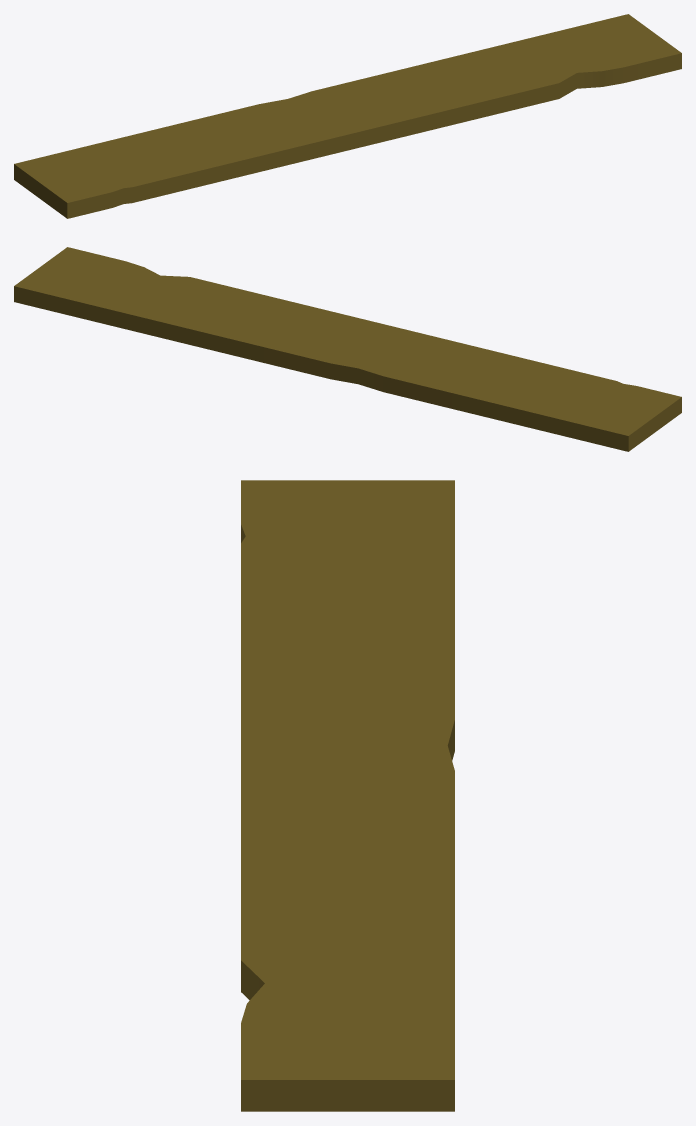
File: Board.fbx
The picture shows the model from 3 angles, top to bottom: view 1: azimuth 30°, elevation 25°; view 2: azimuth 150°, elevation 25°; view 3: azimuth 270°, elevation 25°; orthographic projection. The views are drawn at different scales.
Visible parts, largest first — view 1: pCube1; view 2: pCube1; view 3: pCube1.
Part boxes in pixels (box(x1,y1,x2,y2)): pCube1: box(14, 14, 681, 218); pCube1: box(14, 247, 681, 451); pCube1: box(241, 480, 454, 1111).
Bounding box in the file's own units: 31.38 × 0.7747 × 4.73.
